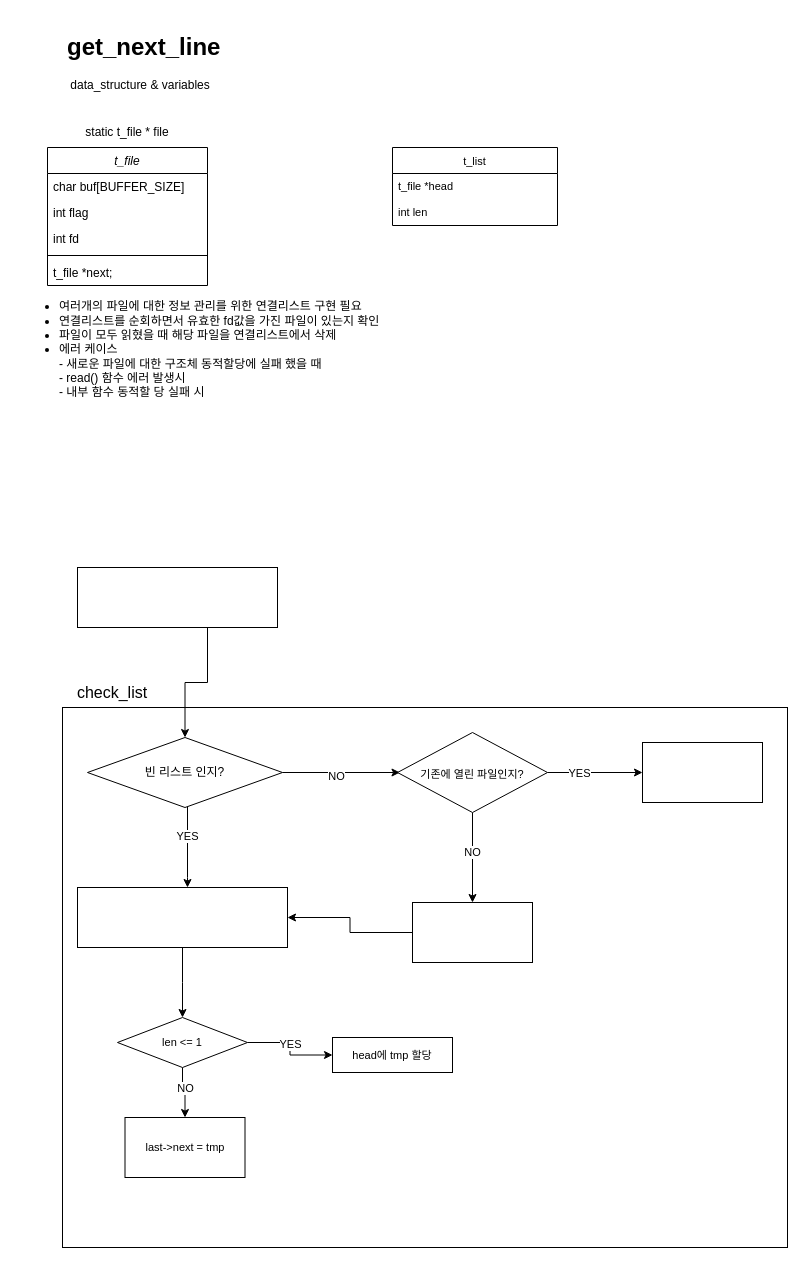
Some shapes in this 805 by 1265 pixel diagram are drawn without their labels. Here are the shapes that lost their labels. From the top down, the centre of each, then its label:
At [177,597]: "fd 값이 유효한지 확인".
At [702,772]: "tmp에 해당 주소 할당 후 리턴".
At [182,917]: "tmp에 동적 할당 후 초기화 len++".
At [472,932]: "리스트의 마지막 파일 찾아서 last에 저장".
